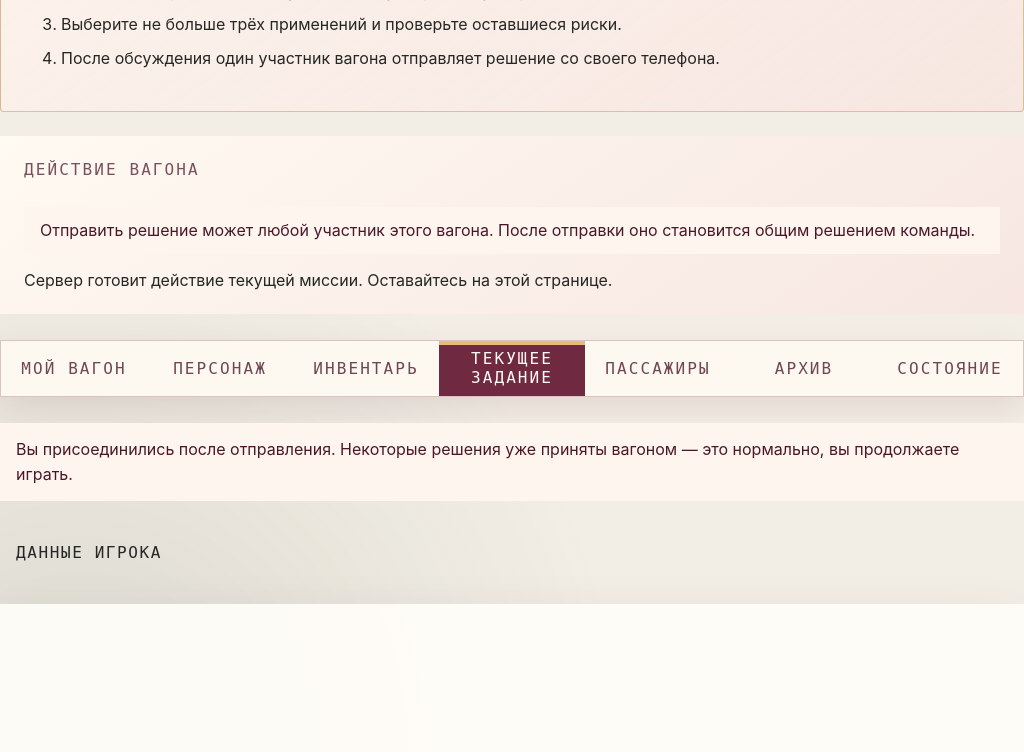
Test case: BunkerPlayerDashboard › never marks a used mission item as currently useful
(page scrolled)
Click the button "ИНВЕНТАРЬ".
click(366, 368)  # box [293,341,439,396]
(page scrolled)
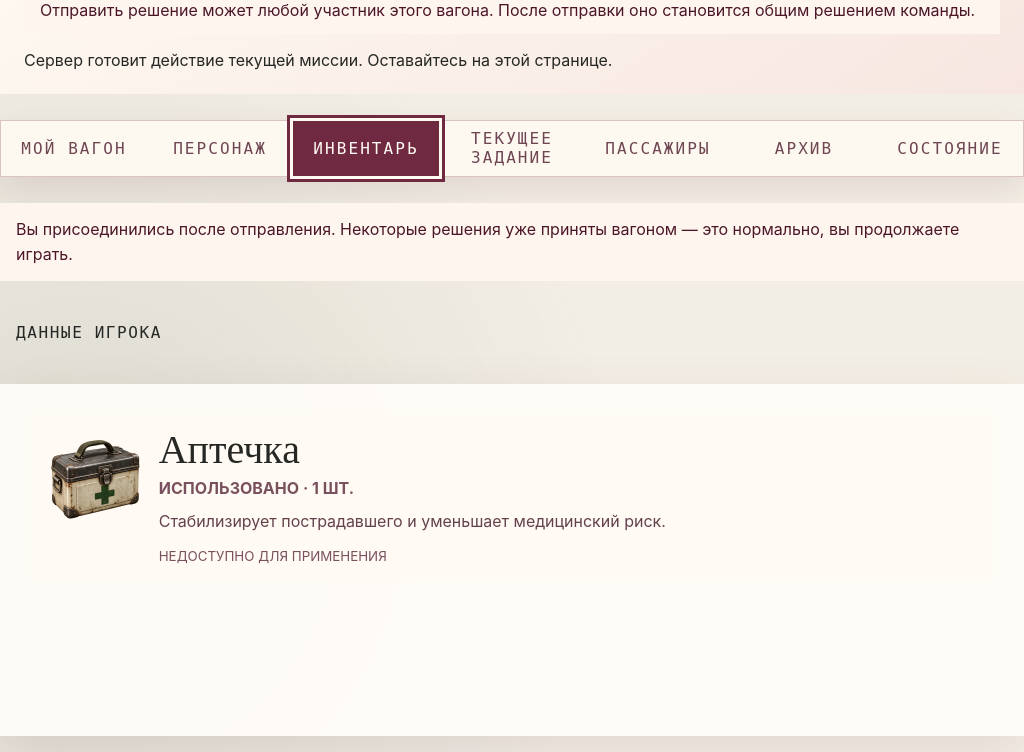
Check: the text "ИСПОЛЬЗОВАНО" is shown, box [159,478,299,498]
Check: the text "НЕДОСТУПНО ДЛЯ ПРИМЕНЕНИЯ" is shown, box [159,548,387,564]
